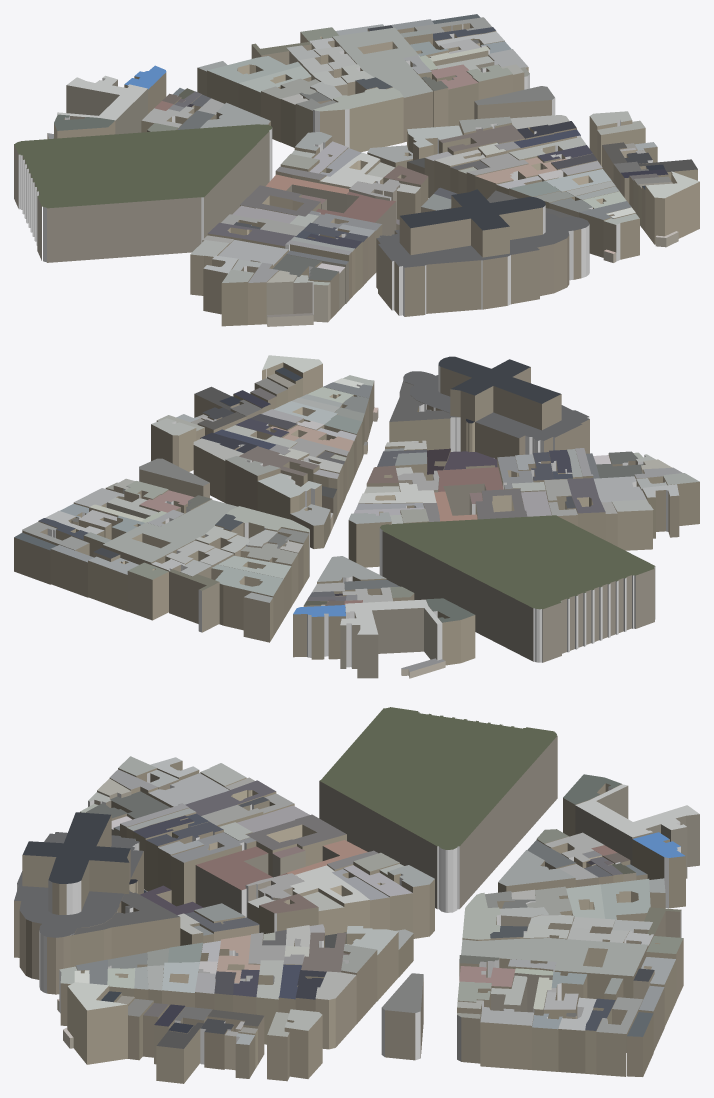
3 views of the same model, one above another, from view 1: azimuth 30°, elevation 25°; view 2: azimuth 150°, elevation 25°; view 3: azimuth 270°, elevation 25° (orthographic). The views are drawn at different scales.
Visible parts, largest first — view 1: tuile; view 2: tuile; view 3: tuile.
Boxes of the visible parts, x1=… form: tuile: x1=14, y1=14, x2=699, y2=326; tuile: x1=14, y1=355, x2=699, y2=678; tuile: x1=14, y1=707, x2=699, y2=1083.
Size of the model in its own units: 306 by 40.48 by 282.
